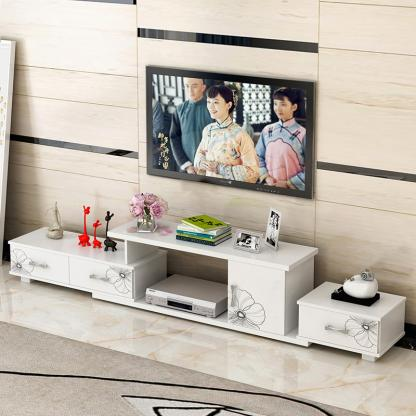Ceramic floor: (0, 265, 416, 416)
TV stand: (8, 220, 408, 362)
